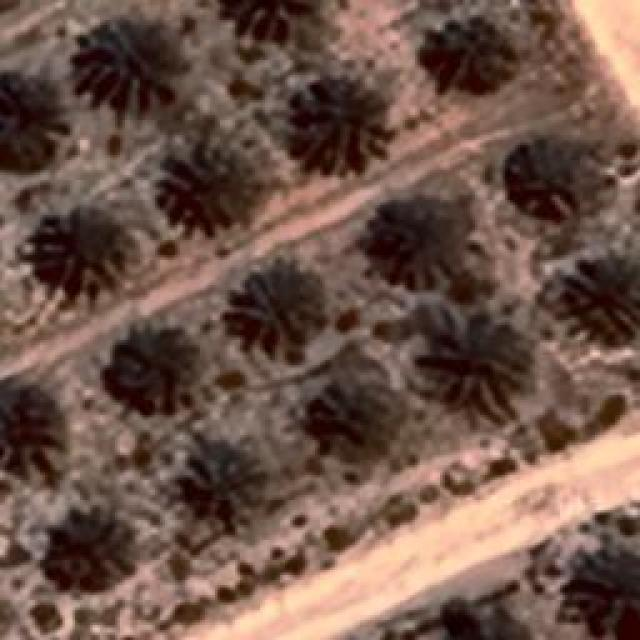PalmTree: (414, 317, 524, 415), (86, 25, 189, 120), (161, 142, 259, 236), (302, 77, 390, 175), (367, 190, 465, 275), (512, 135, 600, 225), (180, 445, 265, 530), (230, 270, 320, 345), (0, 64, 60, 174), (314, 375, 388, 463), (45, 511, 123, 589), (34, 210, 118, 280), (118, 338, 198, 410), (575, 264, 640, 346), (0, 374, 55, 468), (430, 24, 510, 88), (570, 554, 638, 628), (222, 0, 319, 42)
